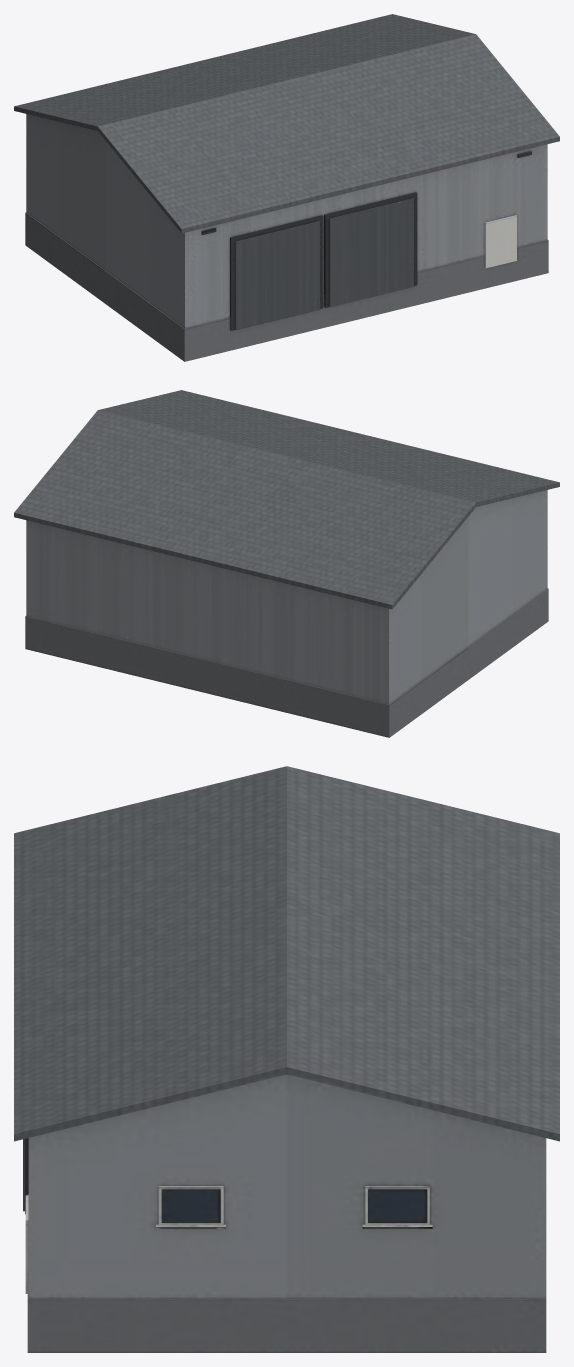
Rendered from autopart_hala.glb.
The picture shows the model from 3 angles, top to bottom: view 1: azimuth 30°, elevation 25°; view 2: azimuth 150°, elevation 25°; view 3: azimuth 270°, elevation 25°; orthographic projection. The views are drawn at different scales.
Visible parts, largest first — view 1: autopart_hala; view 2: autopart_hala; view 3: autopart_hala.
Part boxes in pixels (x1,y1,x2,y2): autopart_hala: (14,14,559,361); autopart_hala: (14,390,559,737); autopart_hala: (14,766,559,1352).
Bounding box in the file's own units: 19.3 × 8.72 × 14.8.
1 material, 1 textured.
